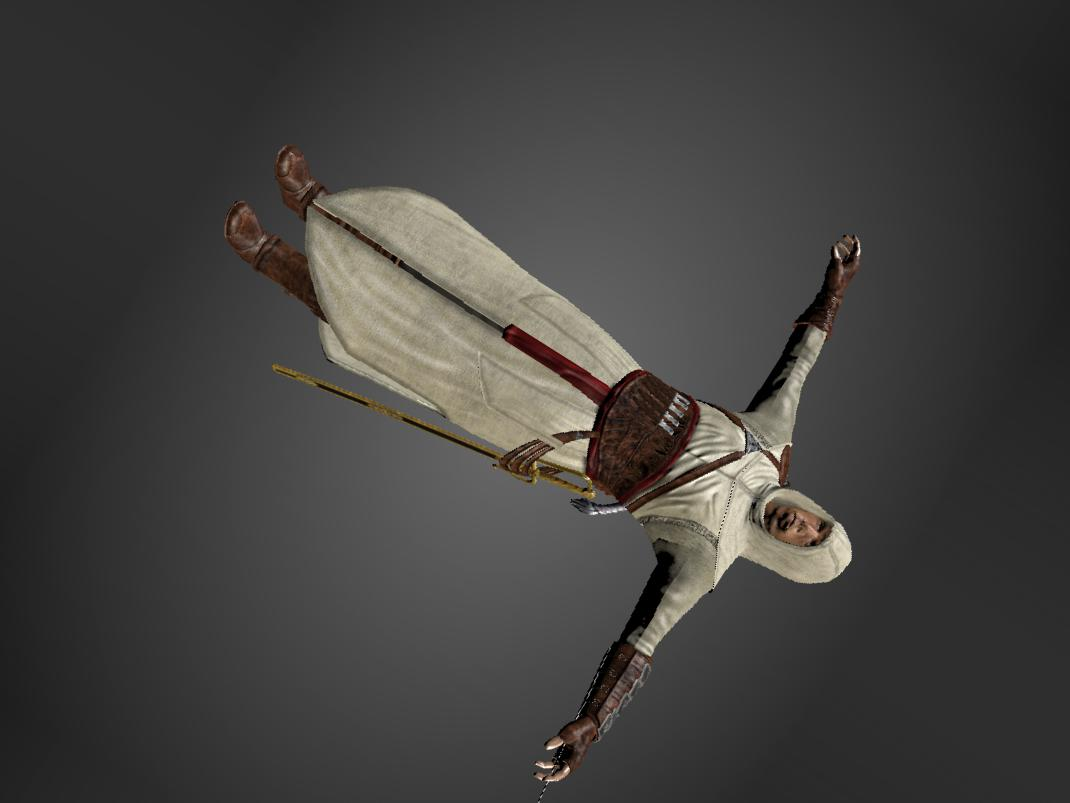clip: (536, 425, 570, 459)
